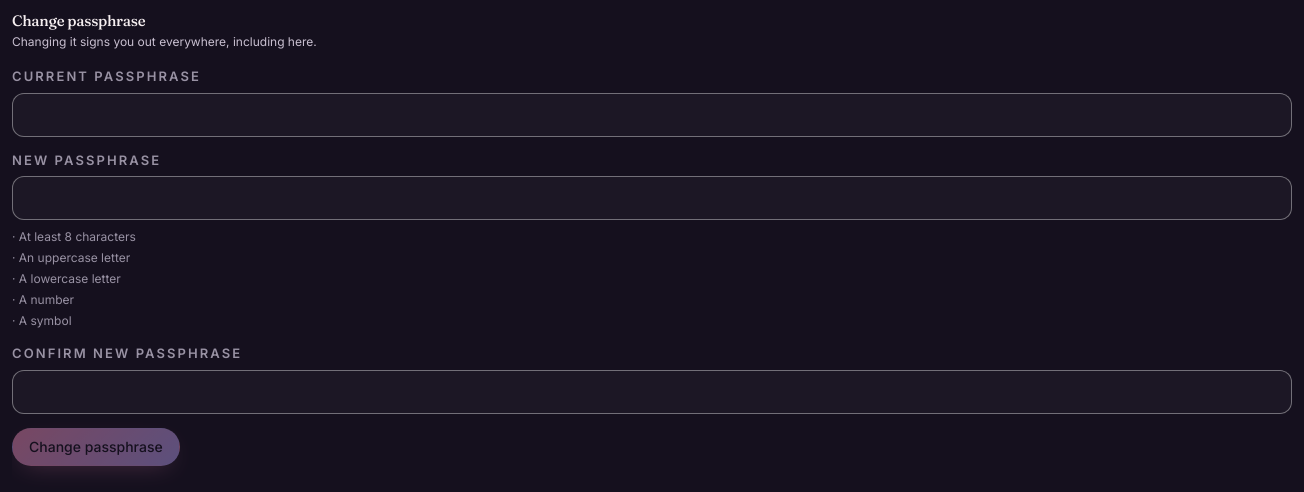
Test: the live policy checklist › marks a rule met in TEXT, not by colour alone
The image size is (1304, 492).
Type "abcdefghij" into the password field labelled "New passphrase" at [652, 198], box [12, 176, 1292, 220]
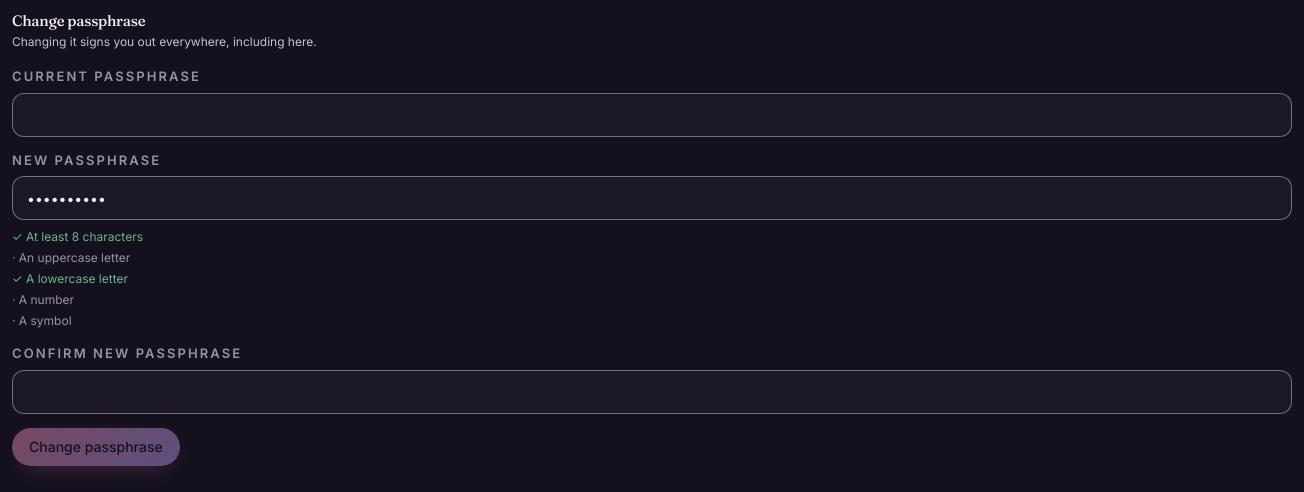
Expected: the list item with aria-label "A number — not yet met" is shown, [12, 292, 74, 307]
Expected: the list item with aria-label "A lowercase letter — met" is shown, [12, 271, 128, 286]
